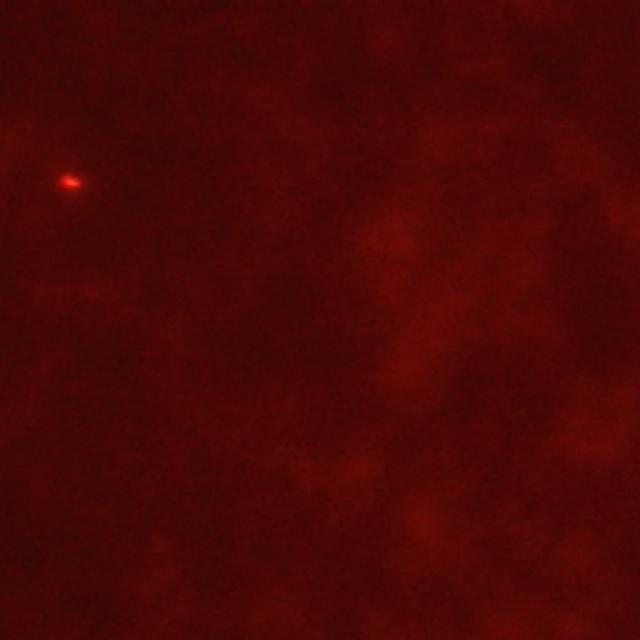Fragment: (63, 177, 85, 189)
